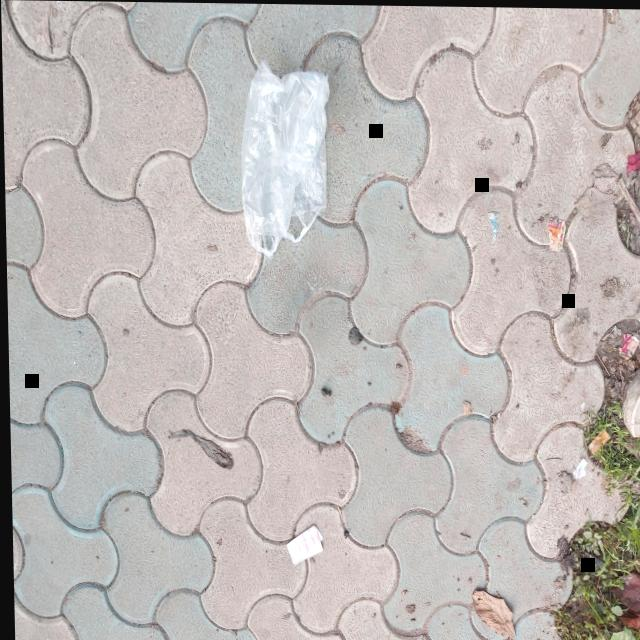Normal paper: (283, 524, 320, 563)
Other carton: (546, 216, 565, 250), (569, 456, 586, 477)
Other plastic: (584, 428, 608, 455), (616, 332, 637, 359)
Single-use carrier bag: (240, 58, 329, 259)
Unlabeled litter: (487, 210, 497, 241)
